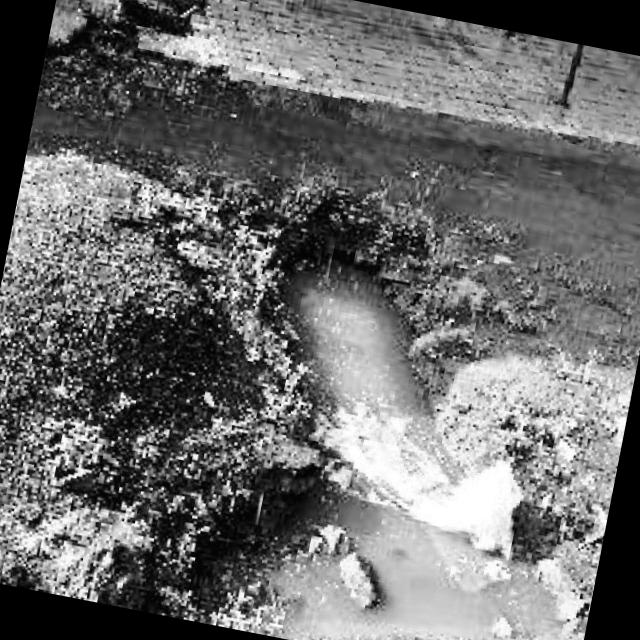Pothole: (118, 151, 640, 640)
